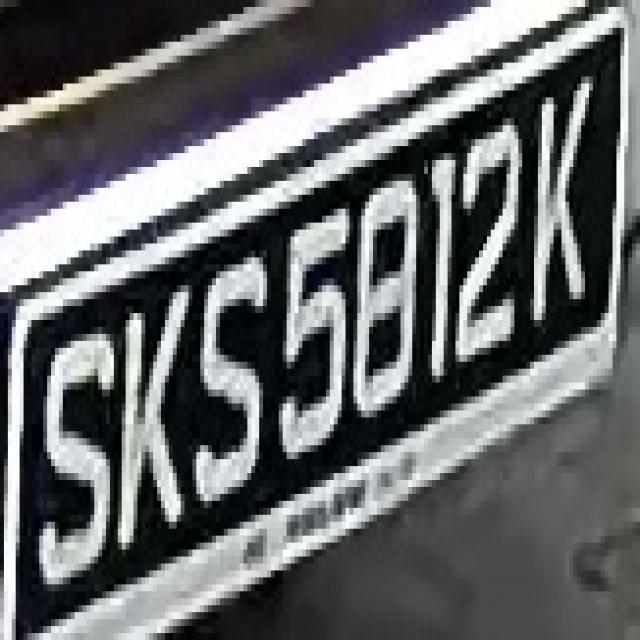1: (428, 104, 463, 410)
2: (444, 118, 522, 376)
5: (279, 181, 353, 480)
8: (349, 153, 424, 417)
K: (530, 56, 601, 354), (114, 285, 188, 564)
S: (188, 236, 275, 522), (31, 313, 118, 584)
